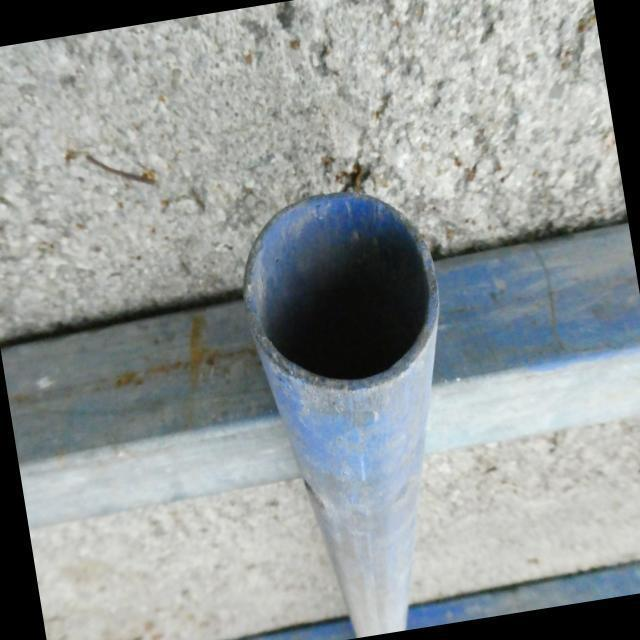pipe: (243, 187, 439, 388)
